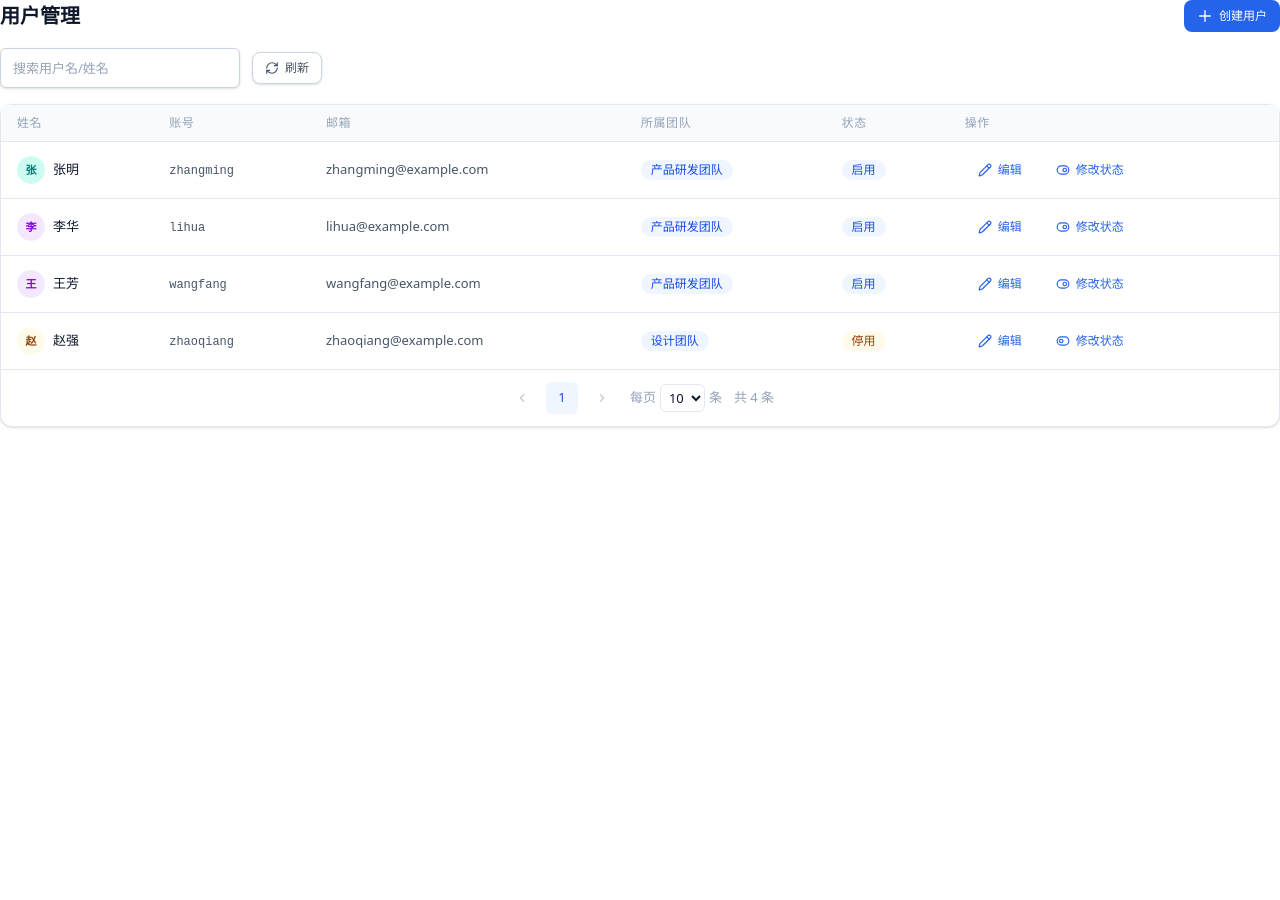
UserManagementPage › shows error when creating duplicate username
Check: the text "张明" is shown, box x1=53 y1=160 x2=79 y2=180
Click the button "创建用户": click(1232, 16) x1=1184 y1=0 x2=1279 y2=32
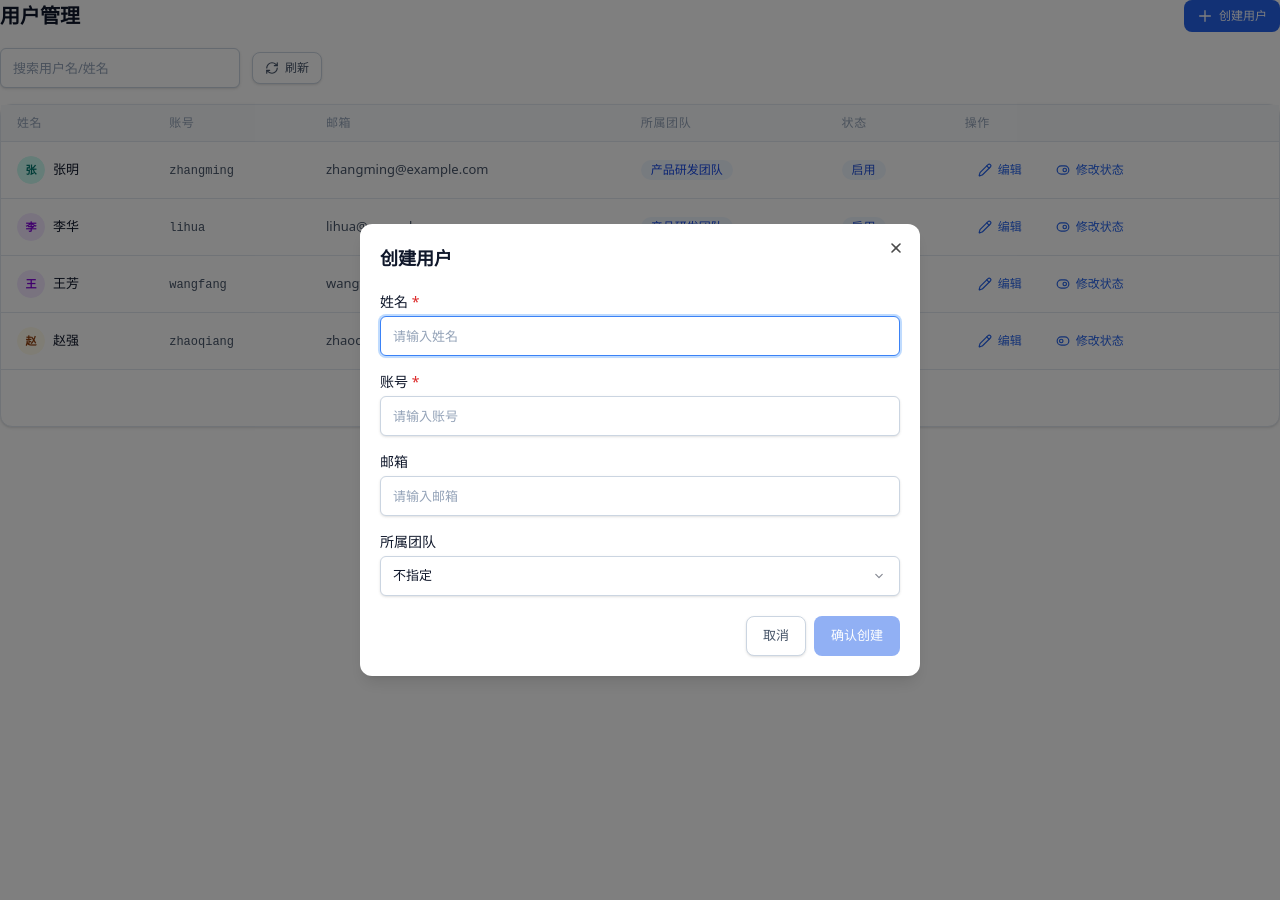
In the field with placeholder "请输入姓名": (640, 336) x1=380 y1=316 x2=900 y2=356, type "重复用户"
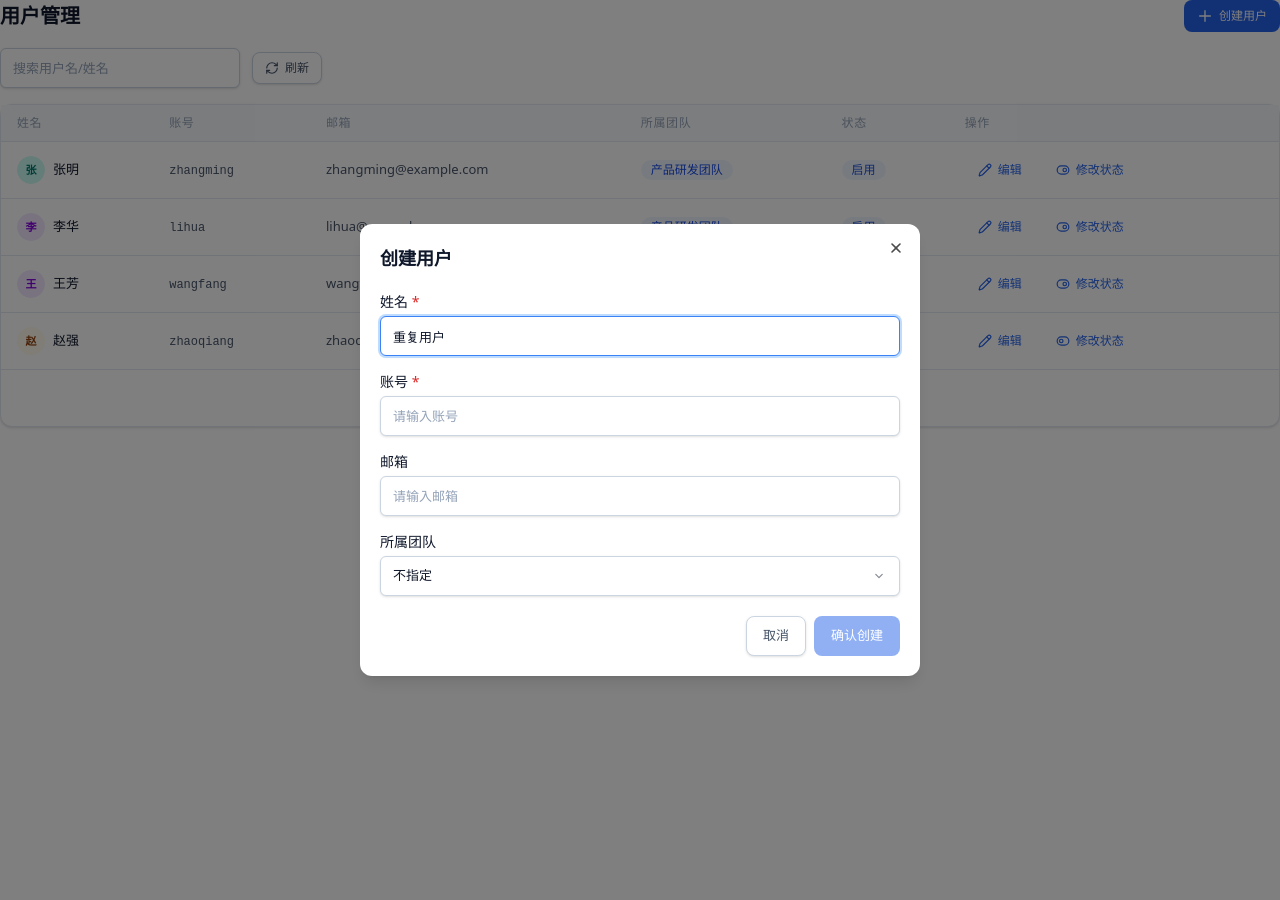
In the field with placeholder "请输入账号": (640, 416) x1=380 y1=396 x2=900 y2=436, type "zhangming"
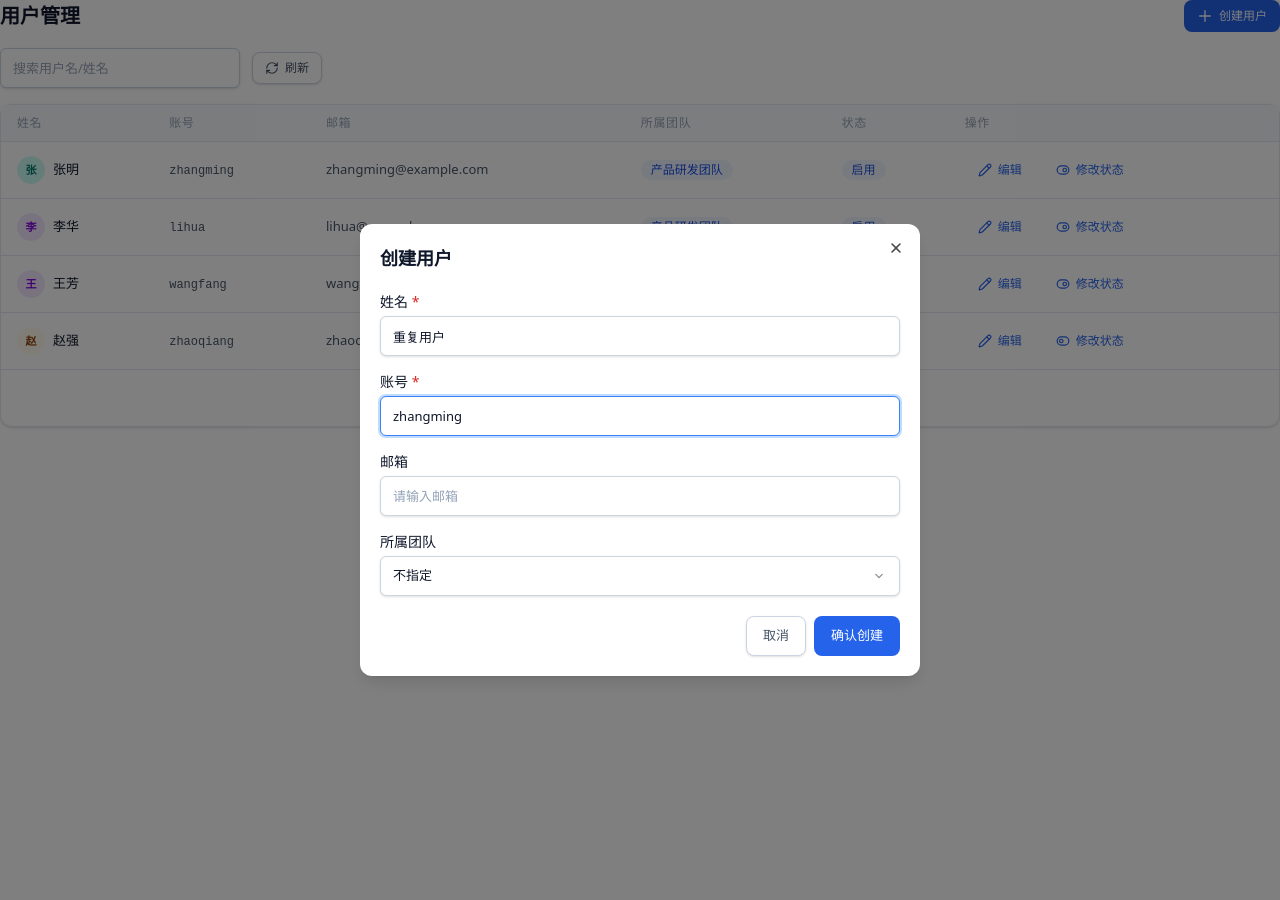
Click the button "确认创建": click(857, 636) x1=814 y1=616 x2=900 y2=656
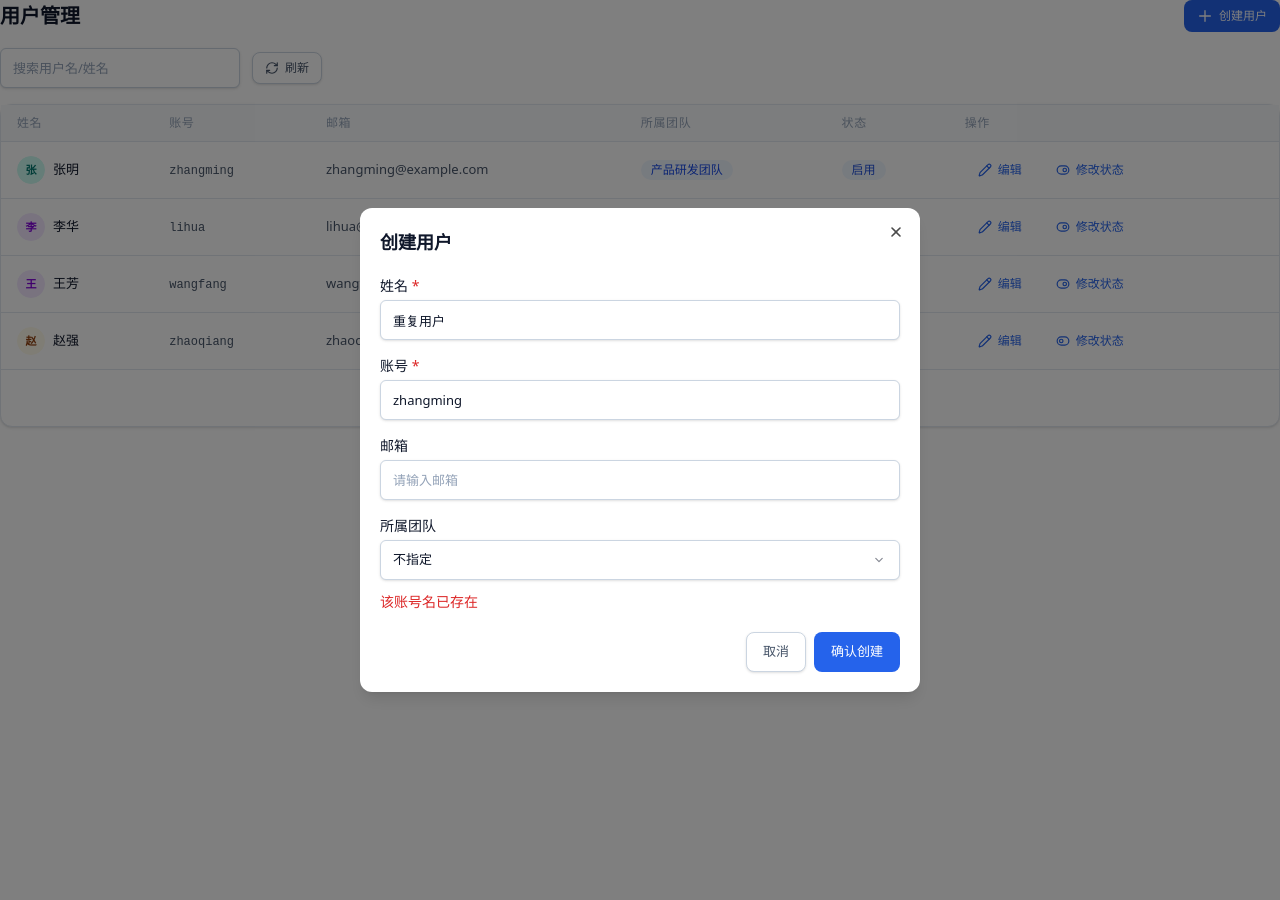
Check: the text "该账号名已存在" is shown, box x1=380 y1=592 x2=478 y2=611
